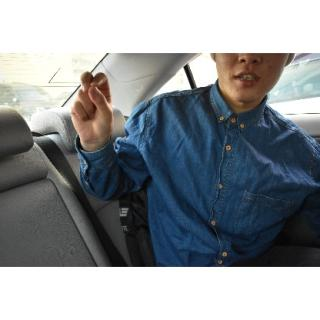QAAF: (67, 69, 119, 148)
